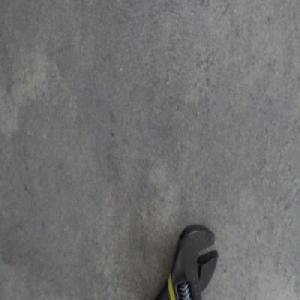AdjustableWrench: (155, 224, 220, 299)
